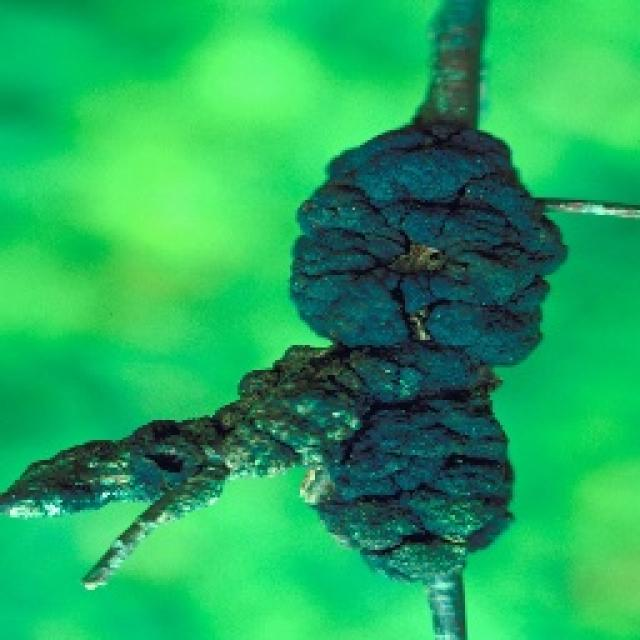Black_knot: (285, 115, 567, 365)
